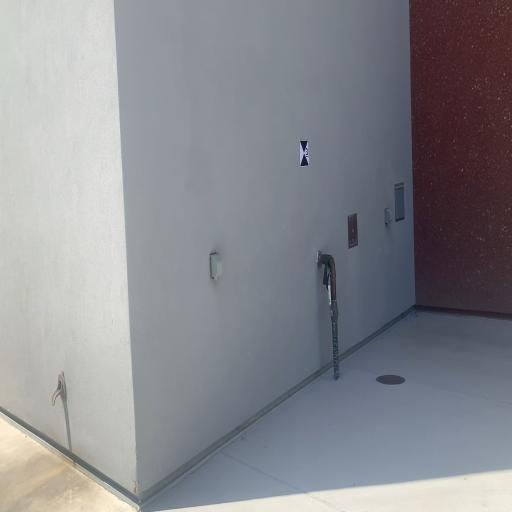target3: (299, 137, 310, 170)
